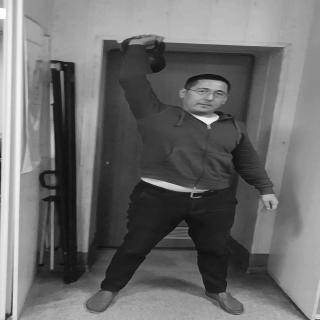kettlebell: (120, 36, 167, 77)
